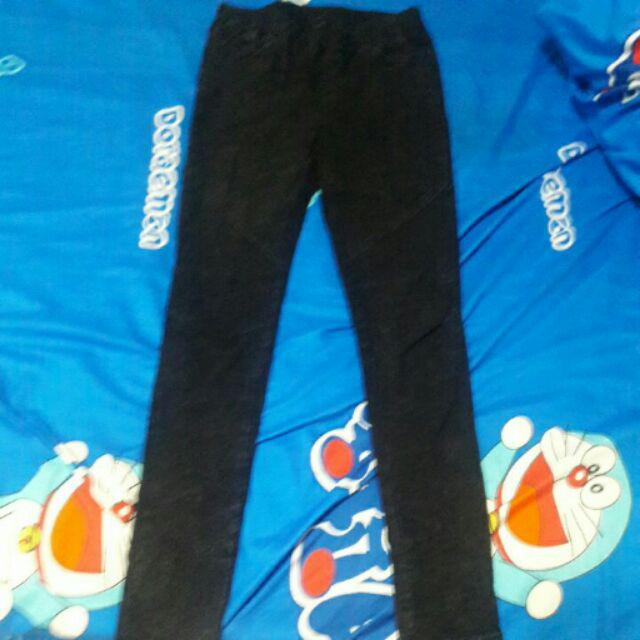Pants_Leggings: (117, 5, 504, 640)
